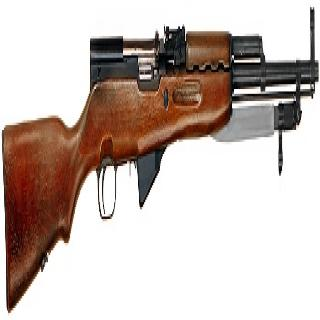gun: (1, 5, 318, 315)
